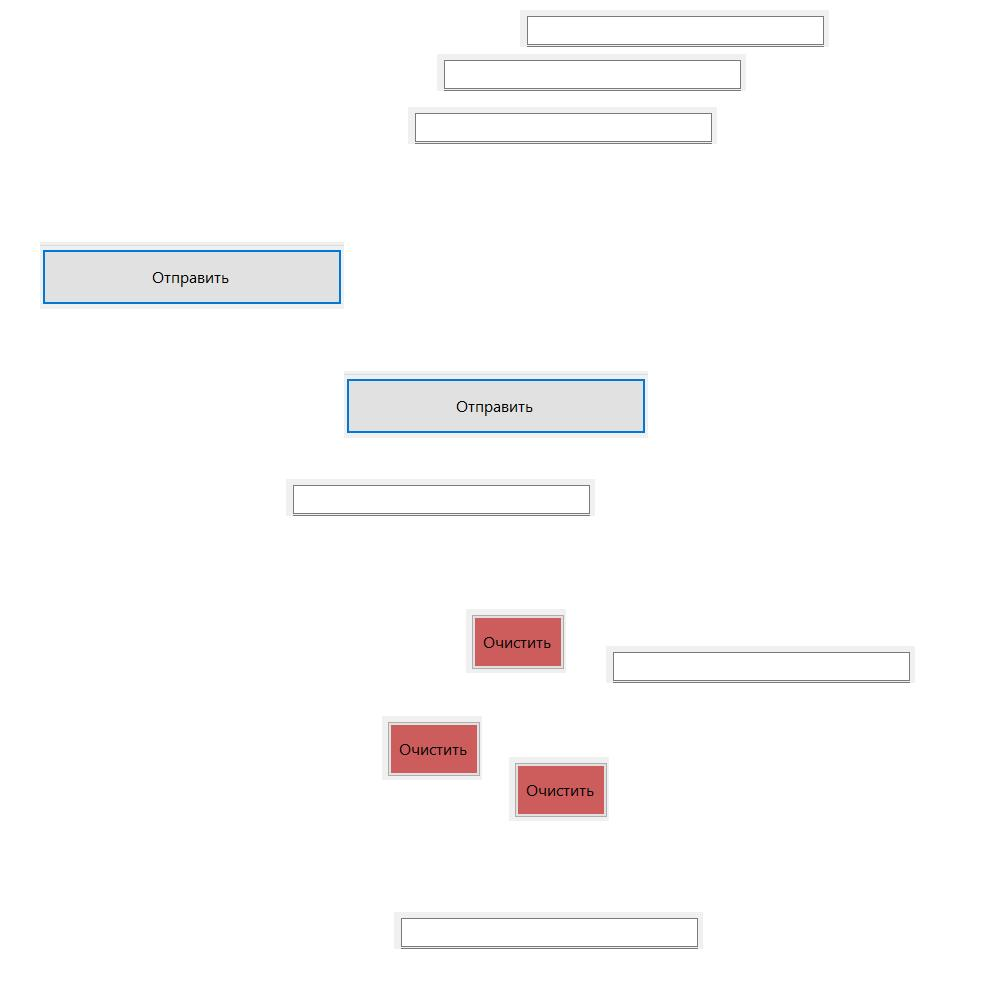Button: (344, 371, 648, 438), (40, 242, 344, 309), (509, 757, 609, 821), (382, 716, 482, 780), (466, 609, 566, 673)
EditText-: (394, 912, 703, 949), (286, 479, 595, 516), (520, 10, 829, 47), (437, 54, 746, 91), (606, 646, 915, 683), (408, 107, 717, 144)
